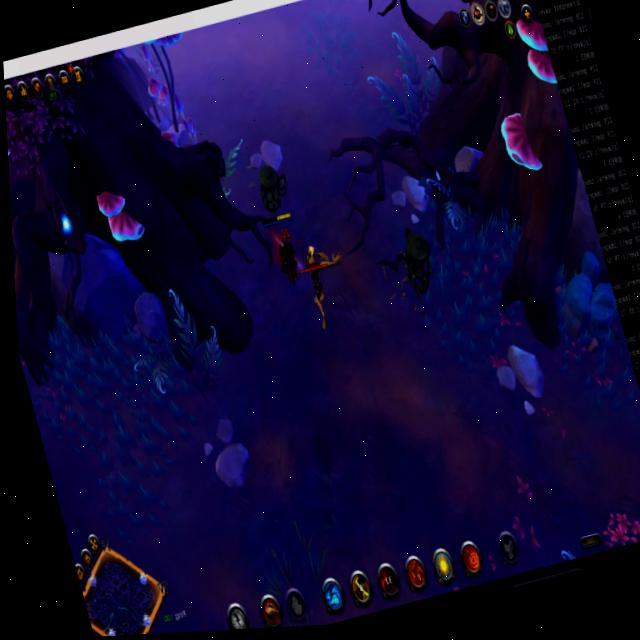ore: (290, 231, 354, 338)
red: (258, 206, 313, 292)
